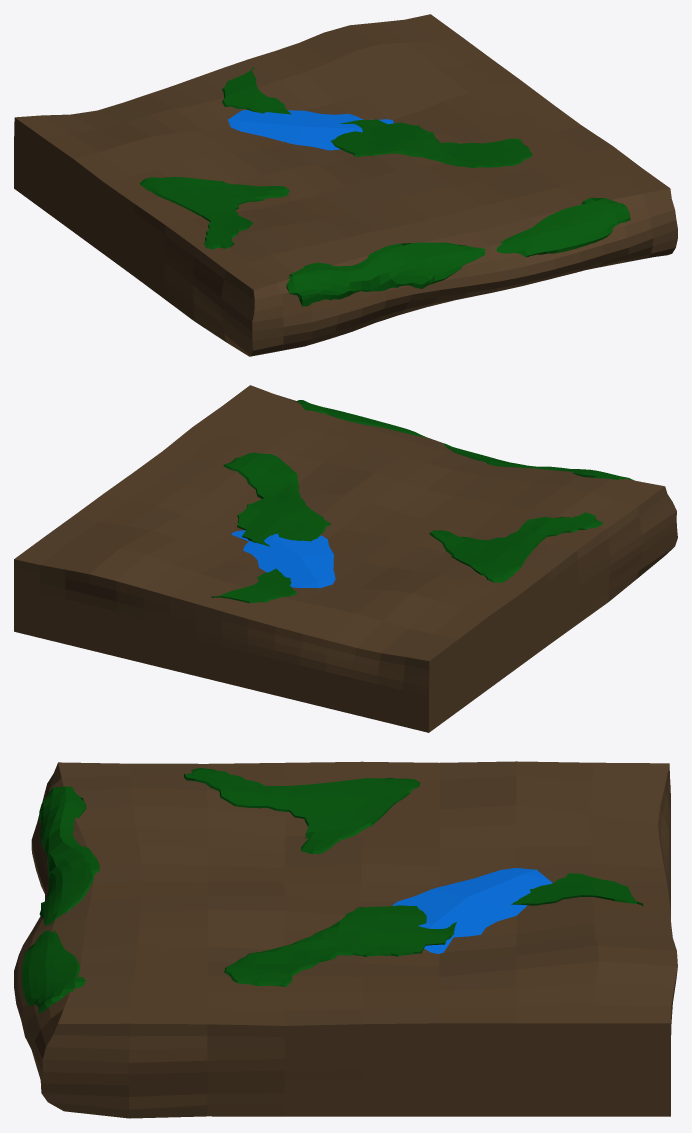
Rendered from platformBigMossPuddle.fbx.
3 views of the same model, one above another, from view 1: azimuth 30°, elevation 25°; view 2: azimuth 150°, elevation 25°; view 3: azimuth 270°, elevation 25° (orthographic). The views are drawn at different scales.
Parts seen in each view (by area): view 1: bigPlatformPlainMossPuddle; view 2: bigPlatformPlainMossPuddle; view 3: bigPlatformPlainMossPuddle.
Boxes of the visible parts, <box> form: bigPlatformPlainMossPuddle: <box>14,14,677,356</box>; bigPlatformPlainMossPuddle: <box>14,385,677,732</box>; bigPlatformPlainMossPuddle: <box>14,761,677,1118</box>.
Bounding box in the file's own units: 309 × 58.64 × 322.
